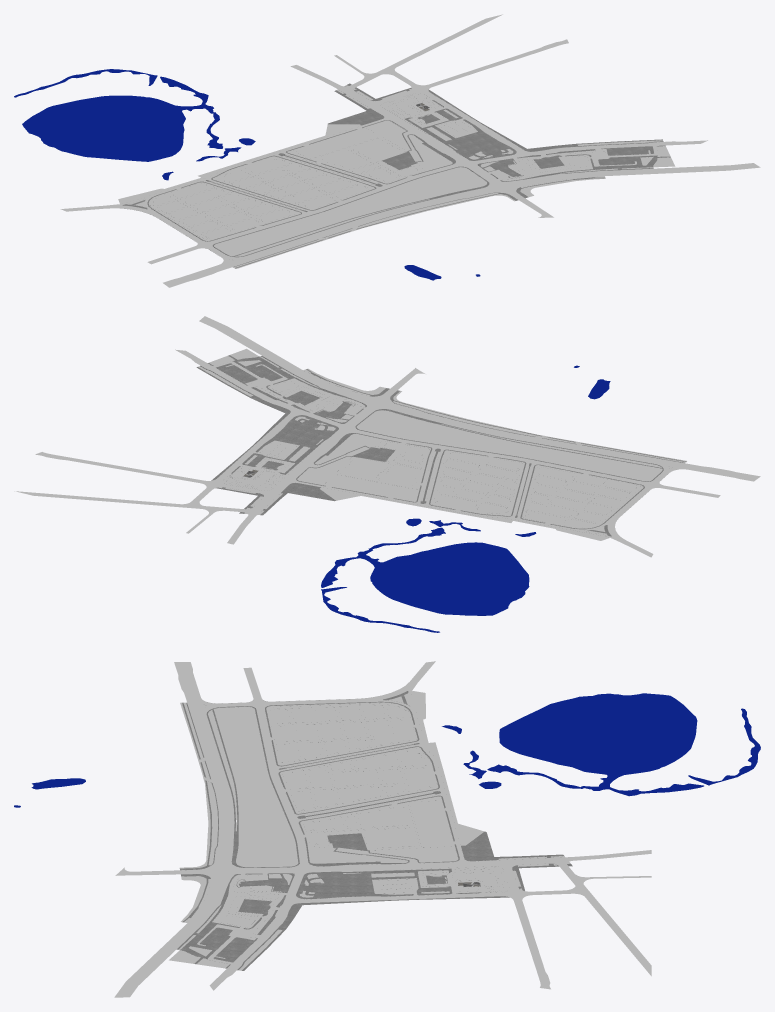
The model's file is MODEL_Environment.fbx.
3 views of the same model, one above another, from view 1: azimuth 30°, elevation 25°; view 2: azimuth 150°, elevation 25°; view 3: azimuth 270°, elevation 25° (orthographic). The views are drawn at different scales.
Visible parts, largest first — view 1: SM_NS_DM_Asphalt, SM_NS_DM_Grass, SM_DM_WATER, SM_NS_DM_Pavement_02, SM_NS_DM_Border, SM_NS_DM_Pavement_05, SM_NS_Roadmarking_3/1; view 2: SM_NS_DM_Asphalt, SM_NS_DM_Grass, SM_DM_WATER, SM_NS_DM_Pavement_02, SM_NS_DM_Border, SM_NS_RoadMarking_Parking, SM_NS_Roadmarking_3/1, SM_NS_DM_Pavement_05; view 3: SM_NS_DM_Asphalt, SM_NS_DM_Grass, SM_DM_WATER, SM_NS_DM_Pavement_02, SM_NS_DM_Border, SM_NS_Roadmarking_3/1, SM_NS_RoadMarking_Parking, SM_NS_DM_Pavement_05, SM_NS_Roadmarking_Solid.
Boxes of the visible parts, <box> form: SM_NS_DM_Asphalt: <box>60,14,760,287</box>; SM_NS_DM_Grass: <box>118,85,675,268</box>; SM_DM_WATER: <box>14,69,480,280</box>; SM_NS_DM_Pavement_02: <box>122,83,670,268</box>; SM_NS_DM_Border: <box>121,85,670,268</box>; SM_NS_DM_Pavement_05: <box>381,93,442,124</box>; SM_NS_Roadmarking_3/1: <box>122,94,664,258</box>; SM_NS_DM_Asphalt: <box>14,316,760,557</box>; SM_NS_DM_Grass: <box>198,348,686,540</box>; SM_DM_WATER: <box>321,365,610,632</box>; SM_NS_DM_Pavement_02: <box>196,355,686,536</box>; SM_NS_DM_Border: <box>198,356,686,537</box>; SM_NS_RoadMarking_Parking: <box>233,383,633,526</box>; SM_NS_Roadmarking_3/1: <box>209,366,666,534</box>; SM_NS_DM_Pavement_05: <box>223,459,286,490</box>; SM_NS_DM_Asphalt: <box>114,661,651,997</box>; SM_NS_DM_Grass: <box>169,691,570,970</box>; SM_DM_WATER: <box>14,693,760,807</box>; SM_NS_DM_Pavement_02: <box>177,691,572,970</box>; SM_NS_DM_Border: <box>178,689,569,969</box>; SM_NS_Roadmarking_3/1: <box>184,691,547,968</box>; SM_NS_RoadMarking_Parking: <box>226,706,497,924</box>; SM_NS_DM_Pavement_05: <box>422,866,509,892</box>; SM_NS_Roadmarking_Solid: <box>186,690,548,968</box>.
Size of what is drawn, in the model's own units: 1396 by 0.2001 by 1309.
